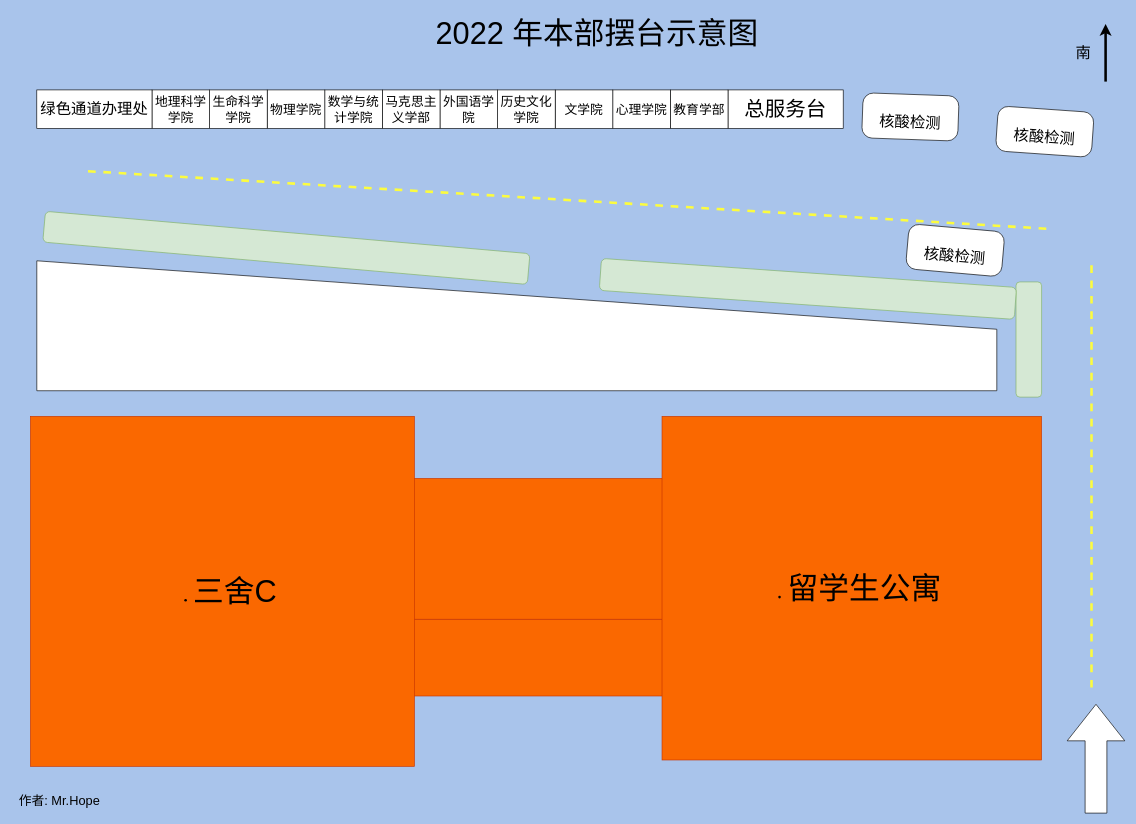
This 1136x824 diagram has some shape labels left out. The centre of each missing label's shape, as x and y in pixels:
保卫处: point (541, 657)
停车场: point (516, 325)
入 校 通 道: point (1096, 758)
爱心驿站: point (532, 548)
